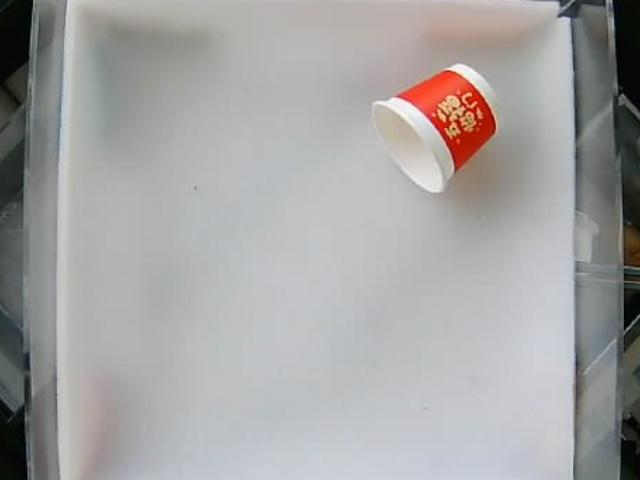Cup: (369, 63, 509, 194)
